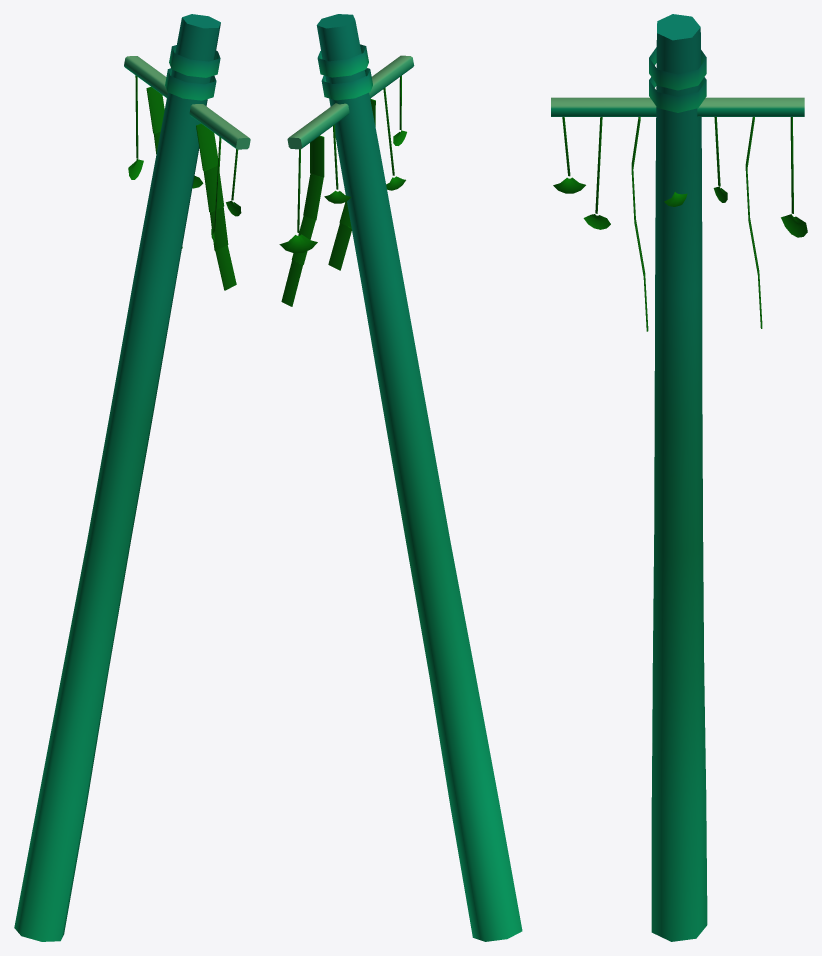
Rendered from pilgrim_marker_post_leaning.glb.
The picture shows the model from 3 angles, left to right: view 1: azimuth 30°, elevation 25°; view 2: azimuth 150°, elevation 25°; view 3: azimuth 270°, elevation 25°; orthographic projection. The views are drawn at different scales.
Visible parts, largest first — view 1: pilgrim_marker_post_leaning; view 2: pilgrim_marker_post_leaning; view 3: pilgrim_marker_post_leaning.
Boxes of the visible parts, left/top/right/bottom form: pilgrim_marker_post_leaning: left=14, top=14, right=250, bottom=941; pilgrim_marker_post_leaning: left=279, top=14, right=522, bottom=941; pilgrim_marker_post_leaning: left=551, top=14, right=807, bottom=941.
Size of what is drawn, in the model's own units: 0.675 by 2.77 by 0.6478.
